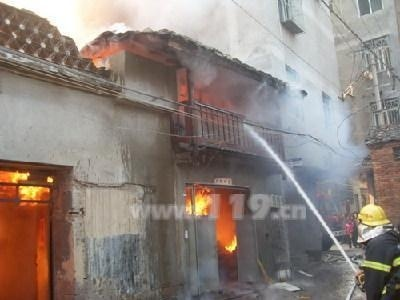fire: (1, 169, 53, 201), (184, 185, 212, 215), (222, 232, 239, 252)
